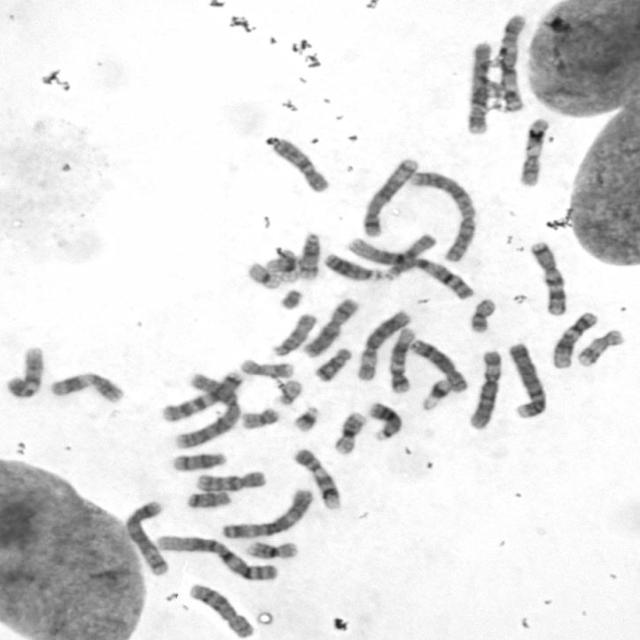A1: (343, 234, 476, 300), (152, 531, 281, 583)
A2: (408, 167, 478, 263), (169, 367, 244, 450)
A3: (219, 485, 316, 539), (496, 10, 528, 111)
B4: (504, 339, 548, 420), (462, 38, 493, 135)
B5: (358, 153, 420, 238), (122, 498, 170, 576)
C10: (262, 132, 332, 194), (192, 467, 268, 492)
C11: (47, 368, 125, 404), (516, 115, 550, 187)
C12: (547, 307, 600, 370), (384, 324, 418, 395)
C6: (353, 306, 413, 382), (466, 346, 504, 431)
C7: (157, 368, 246, 424), (525, 237, 570, 317)
C8: (183, 579, 256, 638), (405, 336, 470, 394)
C9: (290, 444, 343, 510), (3, 343, 47, 399)
D13: (321, 250, 386, 282), (362, 399, 403, 441)
D14: (168, 448, 230, 472), (295, 228, 323, 280)
D15: (383, 230, 438, 280), (267, 310, 318, 358)
E16: (329, 409, 368, 456), (242, 537, 300, 560)
E17: (572, 326, 626, 368), (237, 356, 295, 378)
E18: (309, 342, 354, 383), (183, 488, 234, 510)
F19: (243, 258, 282, 290), (278, 249, 300, 284)
F20: (466, 295, 499, 335), (237, 404, 281, 429)
G21: (417, 374, 453, 412), (289, 402, 322, 434)
G22: (270, 376, 304, 406), (265, 255, 301, 272)
X: (298, 294, 362, 360)
Y: (277, 286, 303, 311)
